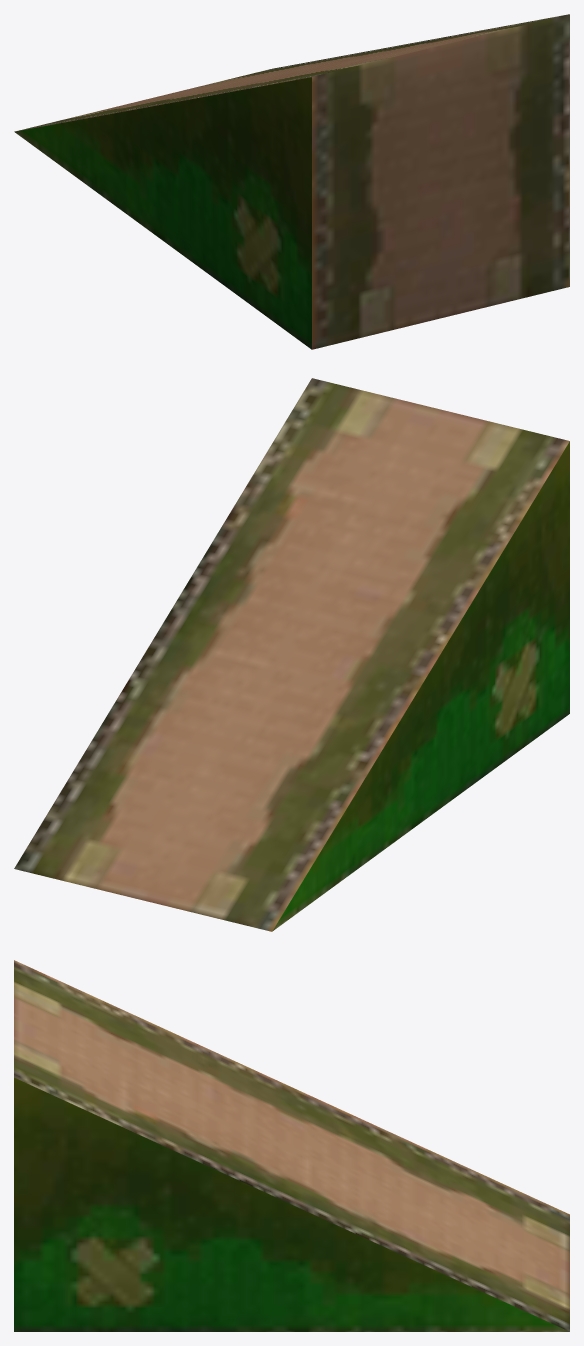
Rendered from triangle_05.fbx.
The picture shows the model from 3 angles, top to bottom: view 1: azimuth 30°, elevation 25°; view 2: azimuth 150°, elevation 25°; view 3: azimuth 270°, elevation 25°; orthographic projection. The views are drawn at different scales.
Parts seen in each view (by area): view 1: triangle_05; view 2: triangle_05; view 3: triangle_05.
Boxes of the visible parts, x1,y1,x2,y2 form: triangle_05: [14, 14, 569, 349]; triangle_05: [14, 378, 569, 931]; triangle_05: [14, 960, 569, 1331].
Bounding box in the file's own units: 273 × 275 × 545.
